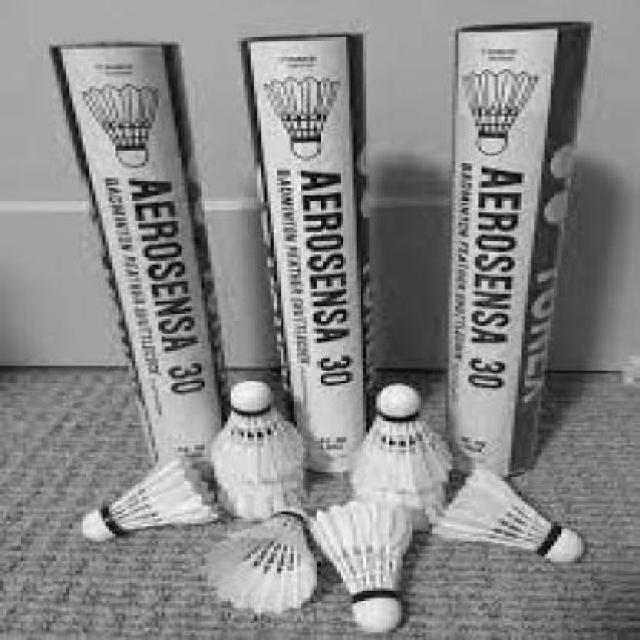Shuttlecock: (432, 469, 590, 566), (206, 508, 323, 617), (78, 457, 220, 543)
